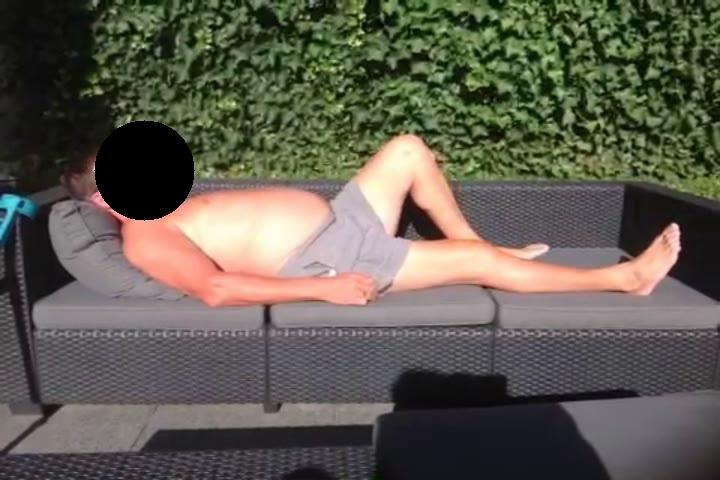lower_body: (310, 133, 683, 300)
